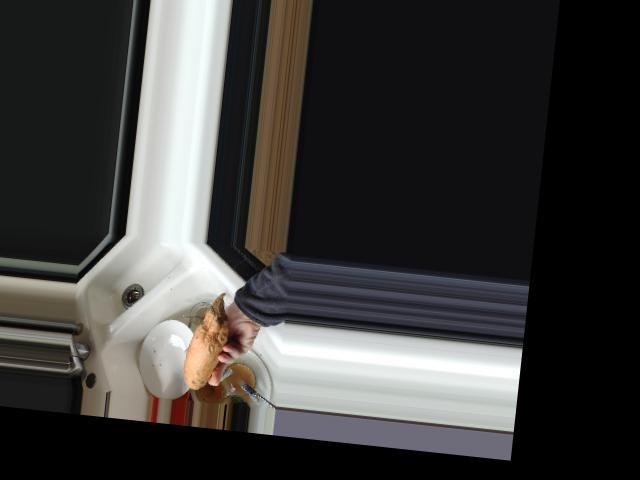sweet_potato: (179, 288, 232, 392)
